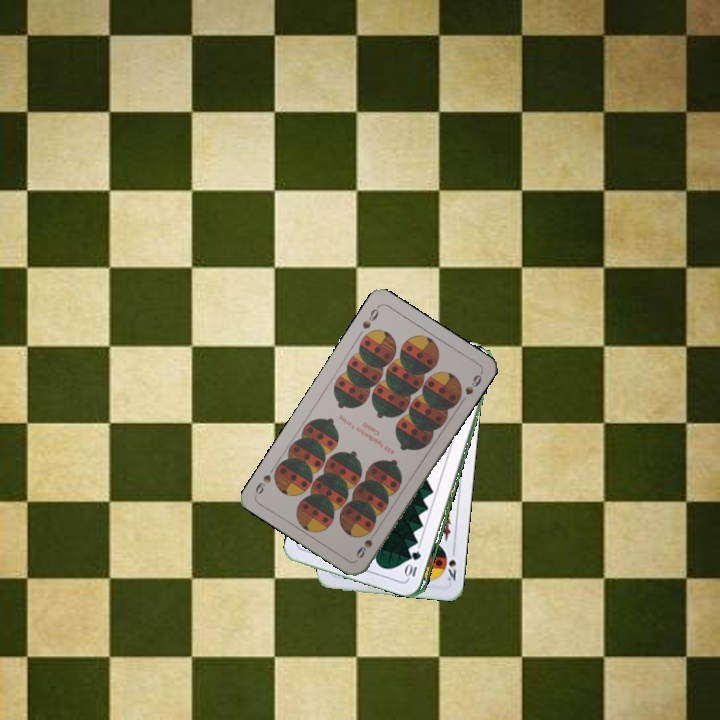G10: (403, 547, 424, 581)
S9: (352, 526, 380, 561), (358, 302, 382, 332)
SK: (443, 544, 459, 583)
